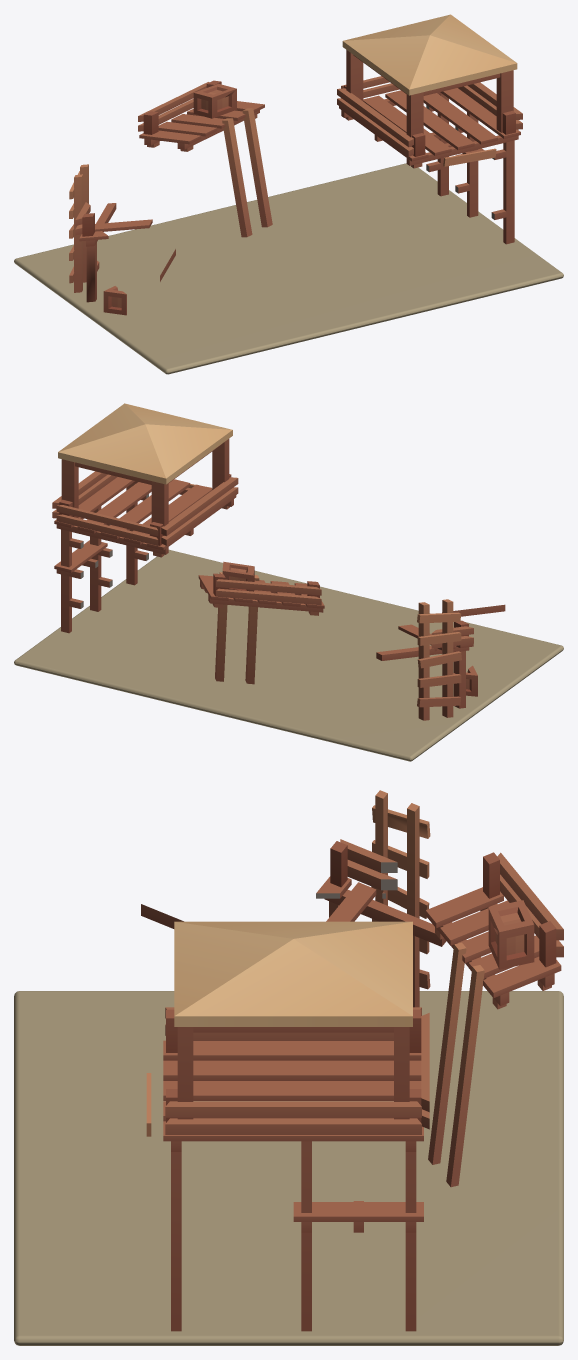
File: open-workshop.glb
The picture shows the model from 3 angles, top to bottom: view 1: azimuth 30°, elevation 25°; view 2: azimuth 150°, elevation 25°; view 3: azimuth 270°, elevation 25°; orthographic projection. The views are drawn at different scales.
Visible parts, largest first — view 1: interior_floor, building_scaffolding; view 2: interior_floor, building_scaffolding; view 3: interior_floor, building_scaffolding.
Part boxes in pixels (<box>): interior_floor: <box>14,163,563,374</box>; building_scaffolding: <box>69,14,522,315</box>; interior_floor: <box>14,549,563,761</box>; building_scaffolding: <box>52,403,505,720</box>; interior_floor: <box>14,991,563,1345</box>; building_scaffolding: <box>141,790,563,1331</box>.
Bounding box in the file's own units: 300 × 144 × 200.
Materials: 2 (1 with a texture image).
